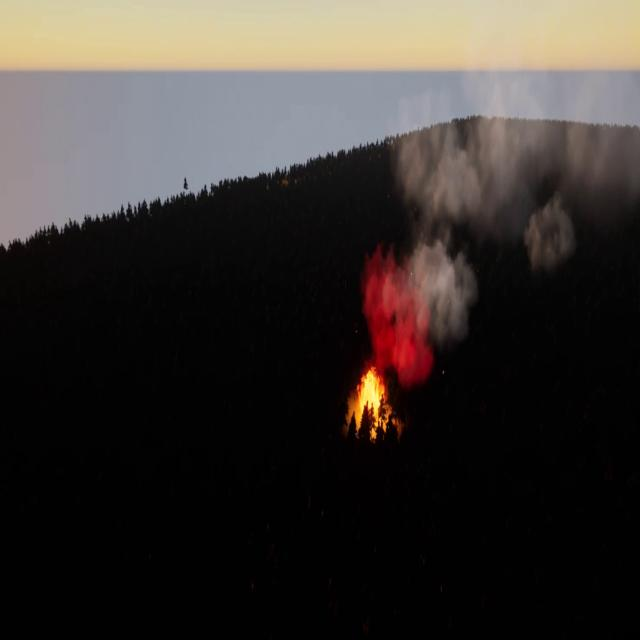fire: (358, 362, 393, 424)
smoke: (363, 68, 640, 385)
